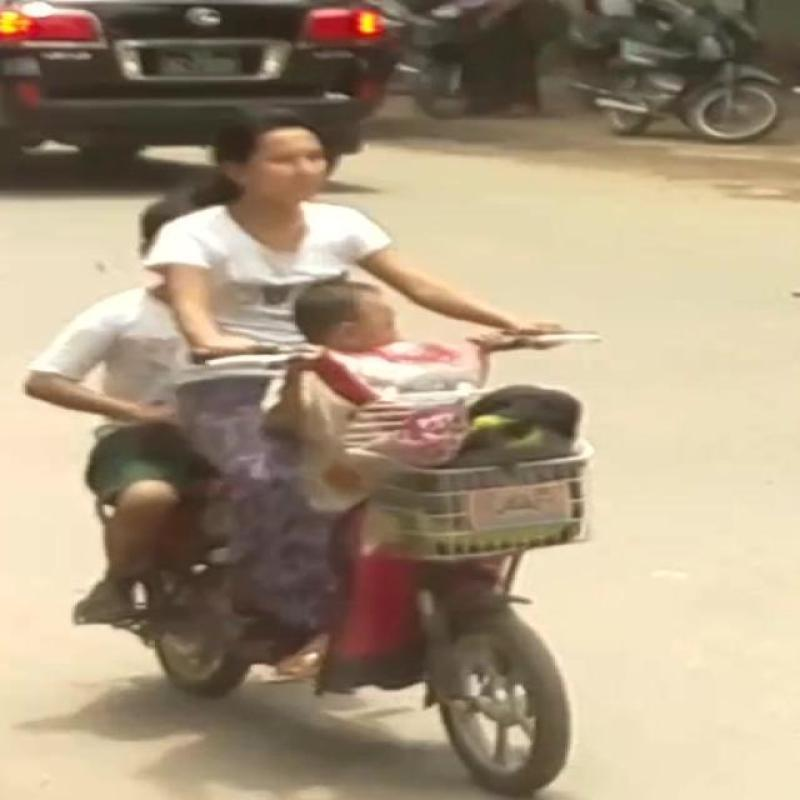nohelmet: (220, 108, 384, 224)
